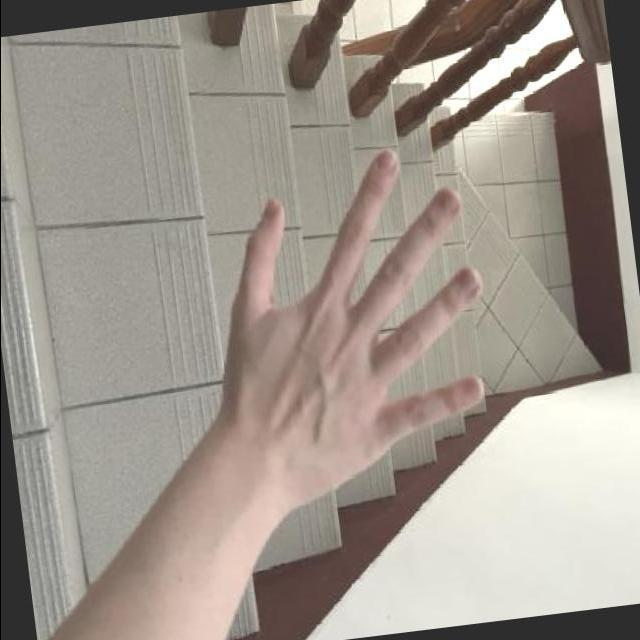hand: (182, 147, 486, 533)
